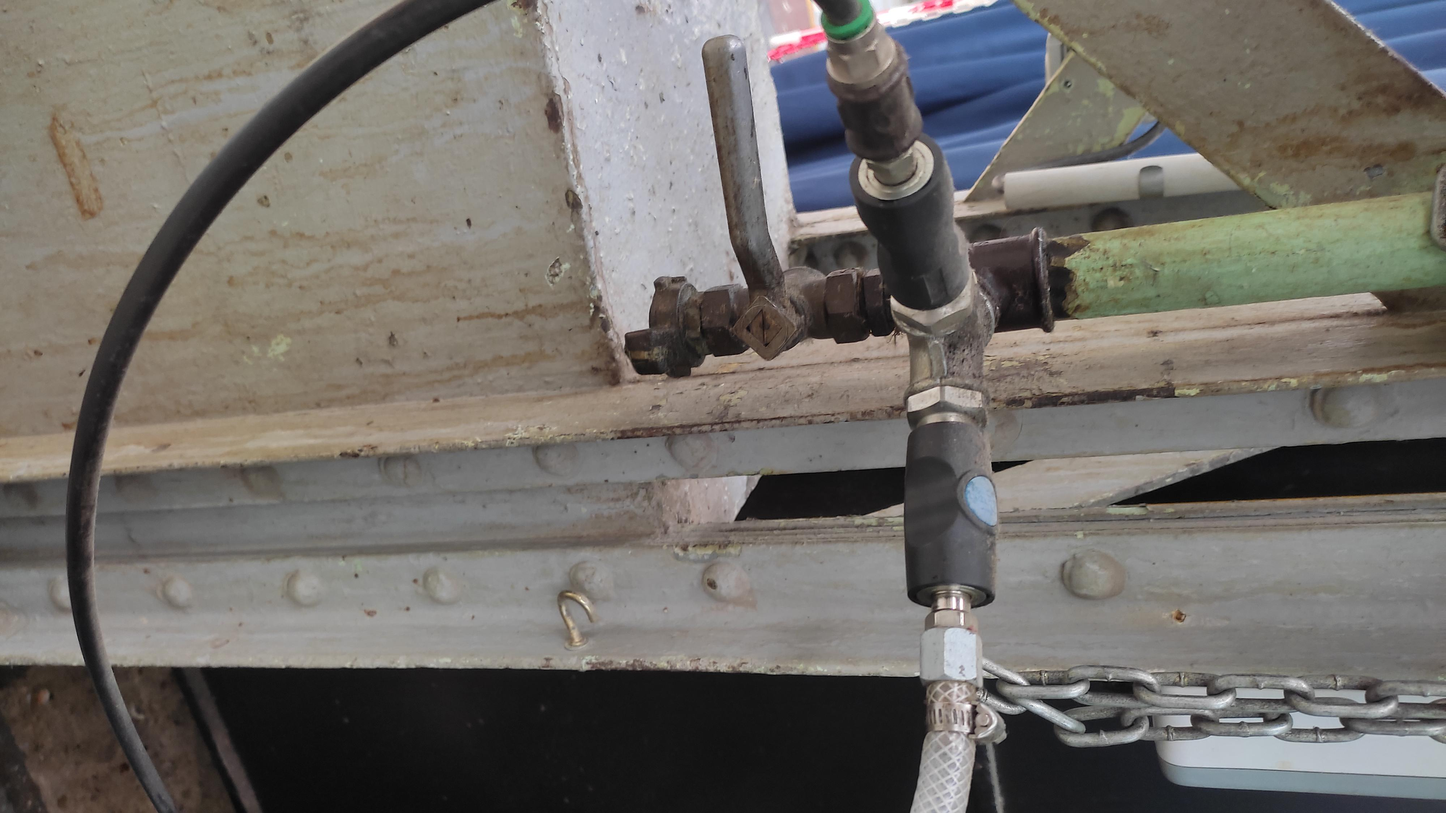closed valve: (678, 24, 863, 364)
